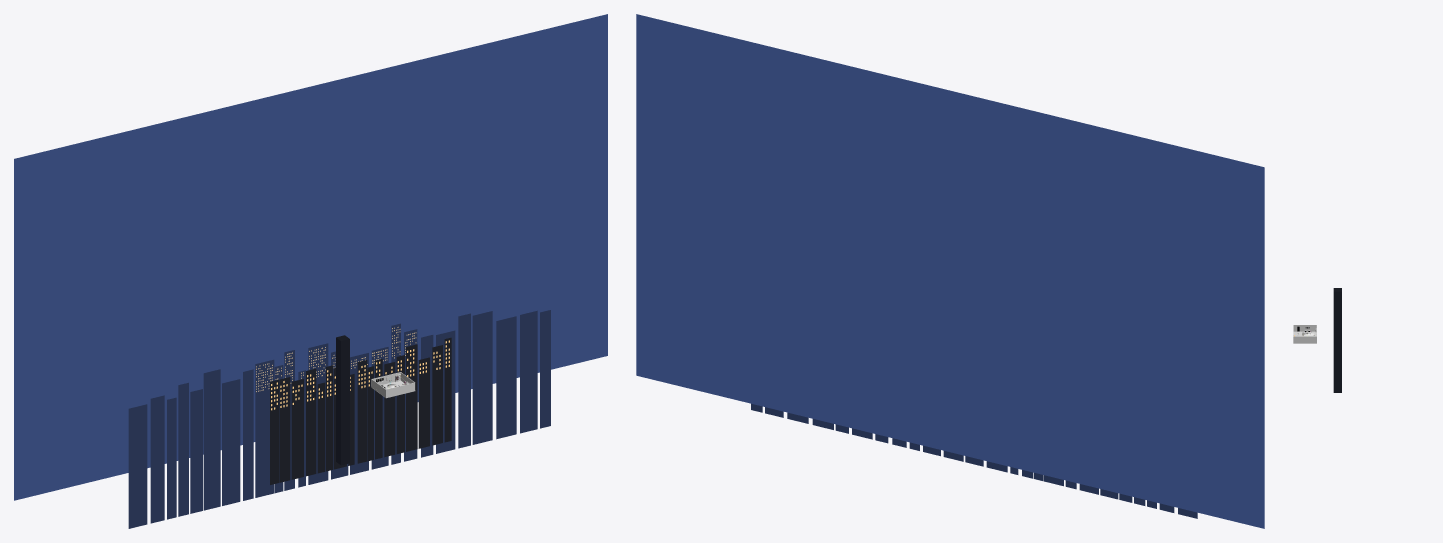
Rendered from office.glb.
The picture shows the model from 3 angles, left to right: view 1: azimuth 30°, elevation 25°; view 2: azimuth 150°, elevation 25°; view 3: azimuth 270°, elevation 25°; orthographic projection. The views are drawn at different scales.
Visible parts, largest first — view 1: window_sky, window_skyline, window_mid, window_near, window_lights; view 2: window_sky, window_skyline; view 3: window_near, wall_e.
Boxes of the visible parts, x1=… form: window_sky: x1=14, y1=14, x2=607, y2=500; window_skyline: x1=128, y1=310, x2=550, y2=528; window_mid: x1=270, y1=337, x2=451, y2=484; window_near: x1=336, y1=335, x2=349, y2=465; window_lights: x1=271, y1=340, x2=449, y2=410; window_sky: x1=636, y1=14, x2=1264, y2=528; window_skyline: x1=751, y1=403, x2=1197, y2=518; window_near: x1=1333, y1=288, x2=1341, y2=392; wall_e: x1=1293, y1=336, x2=1316, y2=343.
Size of the model in its own units: 200 by 120 by 48.5.
